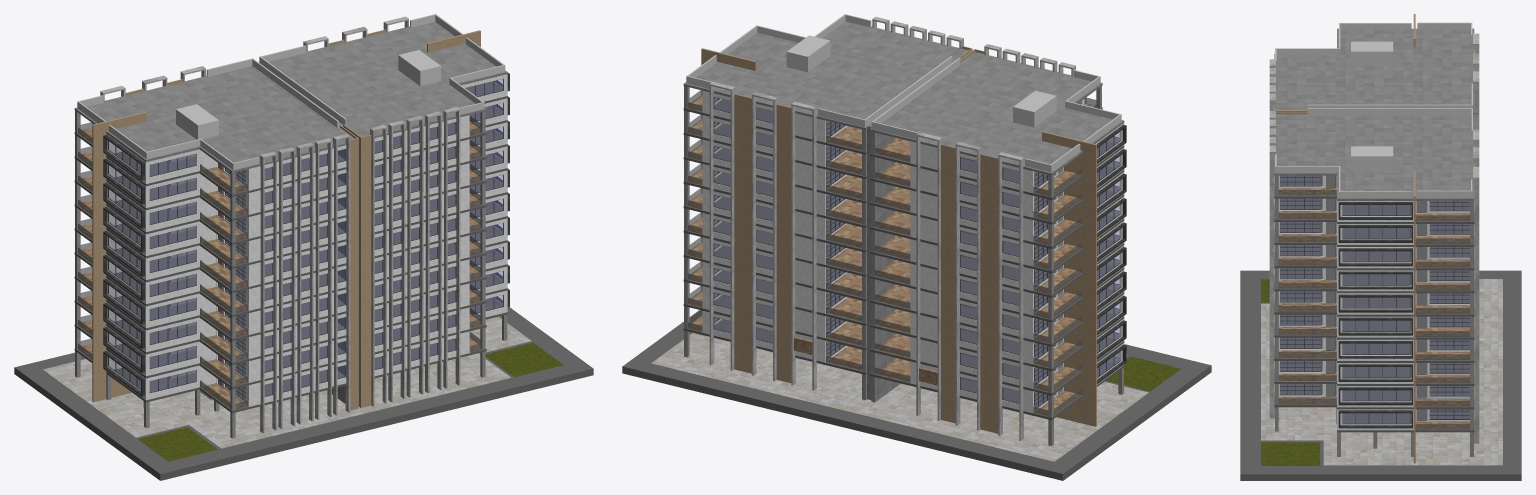
Rendered from residential_complex_modern_apartment_building (1).glb.
The picture shows the model from 3 angles, left to right: view 1: azimuth 30°, elevation 25°; view 2: azimuth 150°, elevation 25°; view 3: azimuth 270°, elevation 25°; orthographic projection. The views are drawn at different scales.
Visible parts, largest first — view 1: Line153, Line133, Line134, Box104, Line061, Line129, Box207, Plane340, Box229, Line105, Box210, Shape176 (+24 smaller); view 2: Line133, Line153, Box207, Line061, Box104, Line134, Line129, Box231, Box205, Plane340, Line131, Box210 (+20 smaller); view 3: Line133, Line129, Plane340, Box104, Line061, Box231, Line153, Line131, Rectangle182, Shape176, Line134, Line105 (+9 smaller).
Boxes of the visible parts, x1,y1,x2,y2 form: Line153: (106, 74, 507, 406); Line133: (74, 22, 507, 172); Line134: (100, 16, 460, 406); Box104: (14, 307, 593, 480); Line061: (42, 316, 531, 448); Line129: (74, 82, 507, 378); Box207: (92, 29, 480, 407); Plane340: (375, 79, 502, 368); Box229: (138, 343, 563, 461); Line105: (77, 14, 505, 125); Box210: (75, 111, 507, 377); Shape176: (108, 78, 503, 369); Line133: (683, 21, 1124, 175); Line153: (702, 90, 1124, 413); Box207: (701, 46, 1096, 426); Line061: (651, 333, 1148, 461); Box104: (622, 310, 1211, 480); Line134: (709, 16, 1023, 440); Line129: (683, 95, 1124, 374); Box231: (688, 96, 1080, 416); Box205: (980, 154, 998, 433); Plane340: (714, 97, 843, 356); Line131: (688, 90, 1081, 370); Box210: (684, 86, 1053, 446); Line133: (1274, 28, 1474, 200); Line129: (1274, 175, 1474, 432); Plane340: (1280, 176, 1469, 423); Box104: (1240, 270, 1521, 480); Line061: (1261, 279, 1502, 465); Box231: (1278, 188, 1469, 429); Line153: (1274, 175, 1474, 430); Line131: (1278, 190, 1469, 429); Rectangle182: (1338, 202, 1412, 428); Shape176: (1280, 175, 1469, 424); Line134: (1269, 33, 1479, 443); Line105: (1275, 22, 1472, 197).
Bounding box in the file's own units: 62.26 × 39.9 × 36.33.
Materials: 20 (9 with a texture image).
